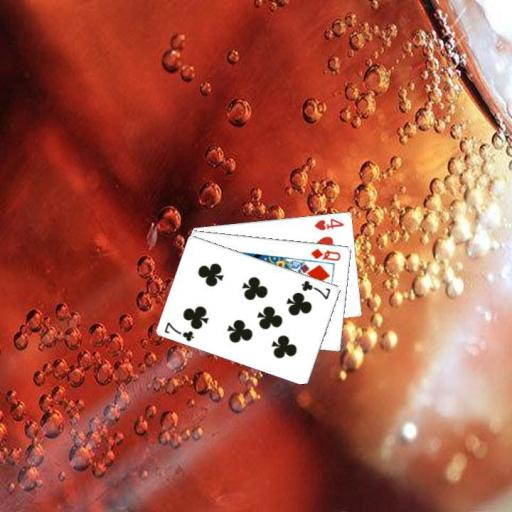4H: (311, 215, 345, 232)
7C: (162, 319, 196, 343), (299, 277, 332, 301)
QD: (308, 246, 342, 263)
